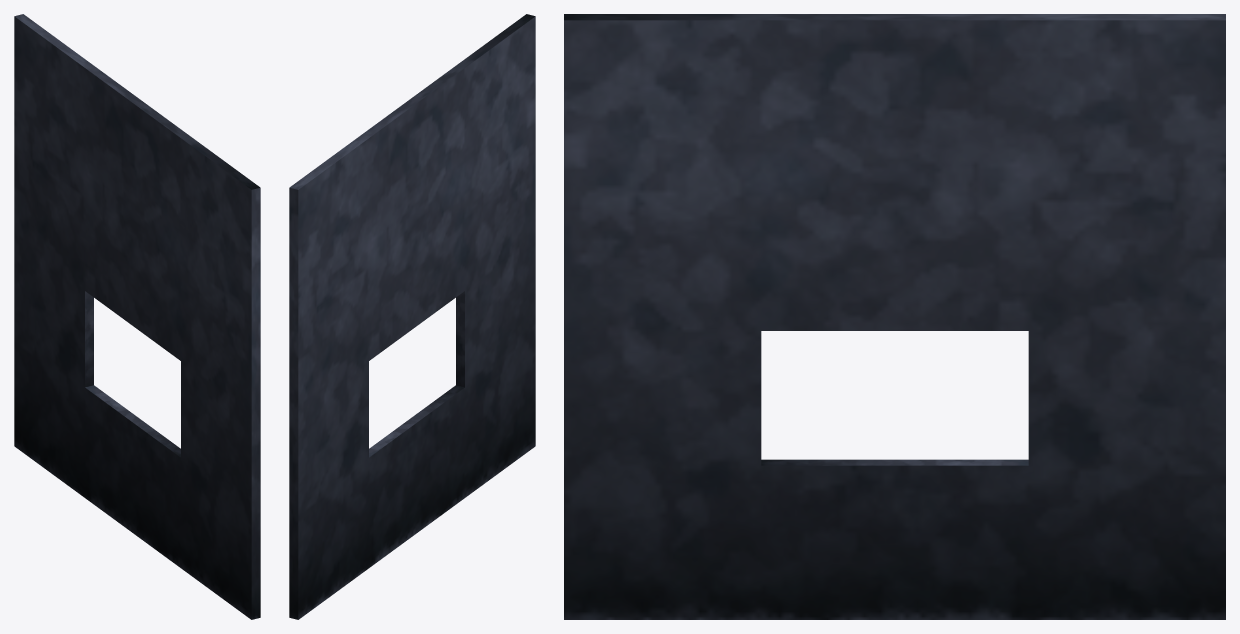
File: WindowWallDarkPurple_SM.fbx
3 renders of one model, left to right at view 1: azimuth 30°, elevation 25°; view 2: azimuth 150°, elevation 25°; view 3: azimuth 270°, elevation 25°, orthographic. The views are drawn at different scales.
Parts seen in each view (by area): view 1: WindowWall; view 2: WindowWall; view 3: WindowWall.
Boxes of the visible parts, box(x1,y1,x2,y2) form: WindowWall: box(14, 14, 260, 619); WindowWall: box(289, 14, 535, 619); WindowWall: box(564, 14, 1225, 619).
Bounding box in the file's own units: 10 × 450 × 450.
Materials: 1 (1 with a texture image).
